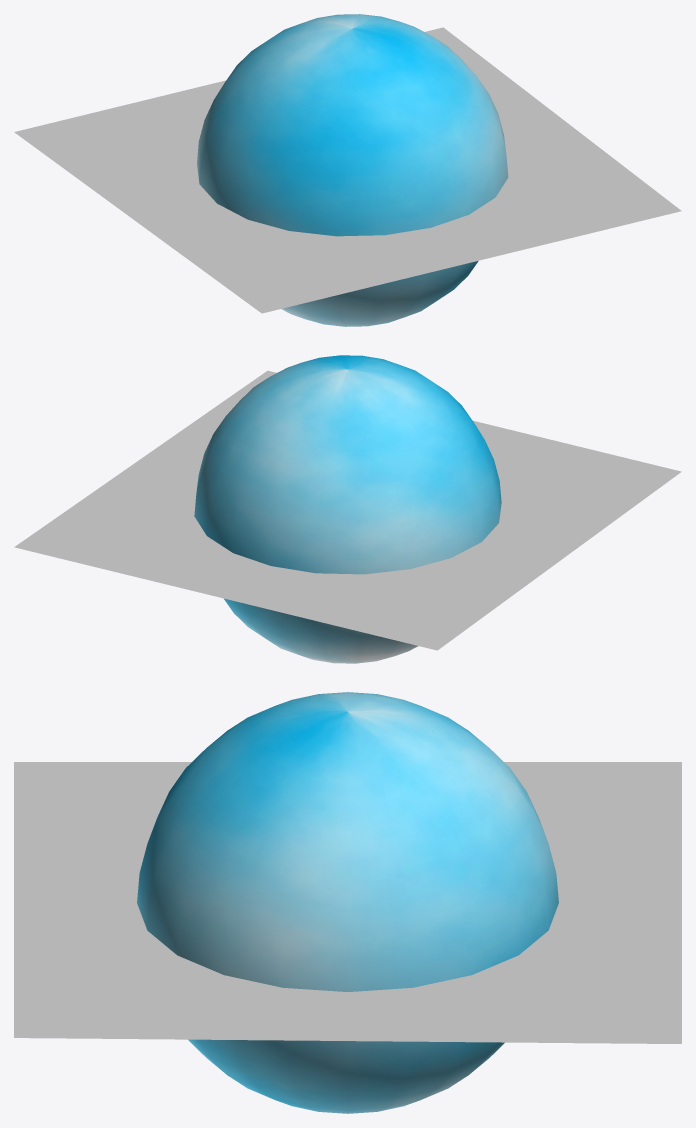
Rendered from Stage2_Maya.fbx.
3 renders of one model, top to bottom at view 1: azimuth 30°, elevation 25°; view 2: azimuth 150°, elevation 25°; view 3: azimuth 270°, elevation 25°, orthographic. The views are drawn at different scales.
Parts seen in each view (by area): view 1: pSphere2; view 2: pSphere2; view 3: pSphere2.
Part boxes in pixels (left/top/right/bottom): pSphere2: left=14, top=14, right=681, bottom=326; pSphere2: left=14, top=355, right=681, bottom=663; pSphere2: left=14, top=692, right=681, bottom=1113.
Size of the model in its own units: 1882 by 1189 by 1882.
